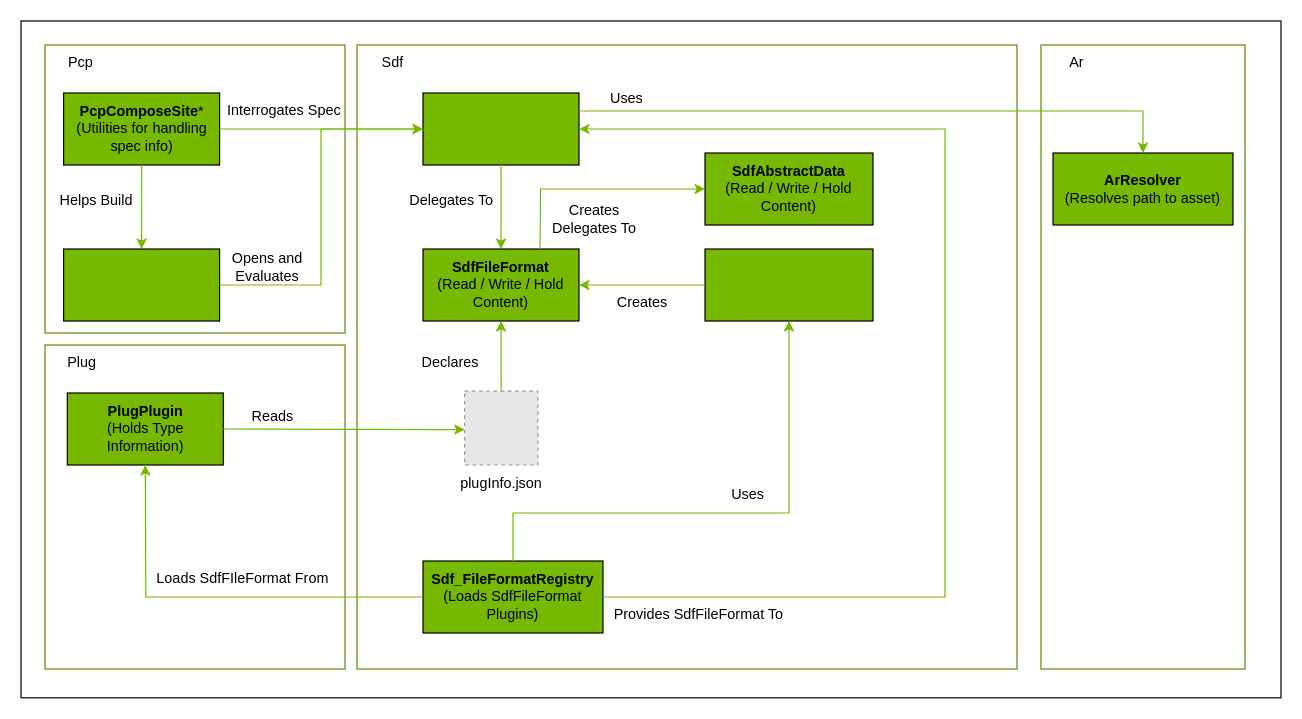
The diagram is 1302 pixels wide and 719 high, and some of its shapes have lost their labels. Grey dashed boxes stand in for pictures. Here are the shapes that lost their labels. From the top down, the centre of each, then its label:
At (500,128): "SdfLayer (Represents scene description)".
At (141,284): "PcpPrimIndex * (Indexes opinions from sources)".
At (788,284): "Sdf_FileFormatFactory (Create Instances)".
